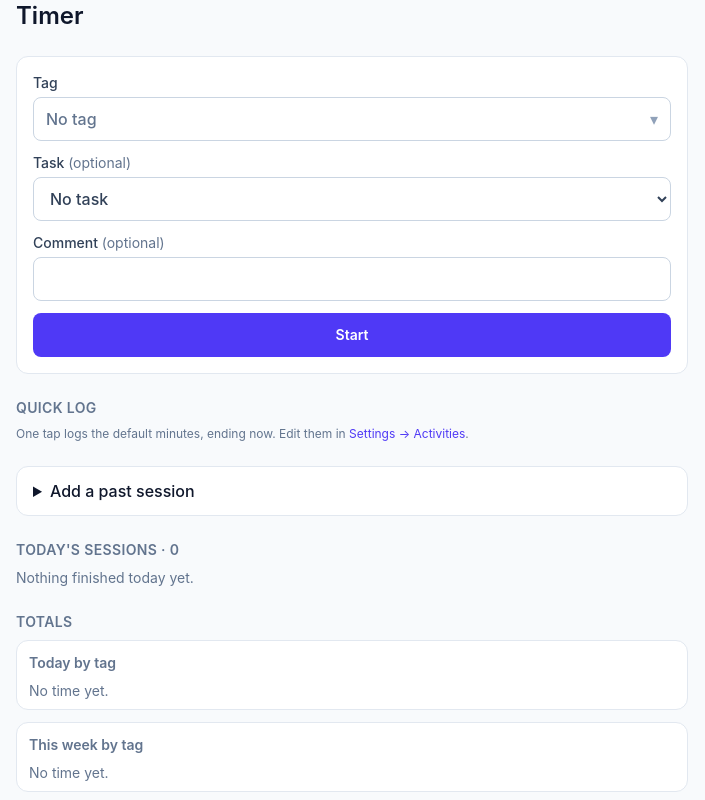
Test: Timer screen, past sessions and today › needs a tag and a duration or an end
Click the heading "Add a past session": [122, 491] box [50,481,195,501]
(page scrolled)
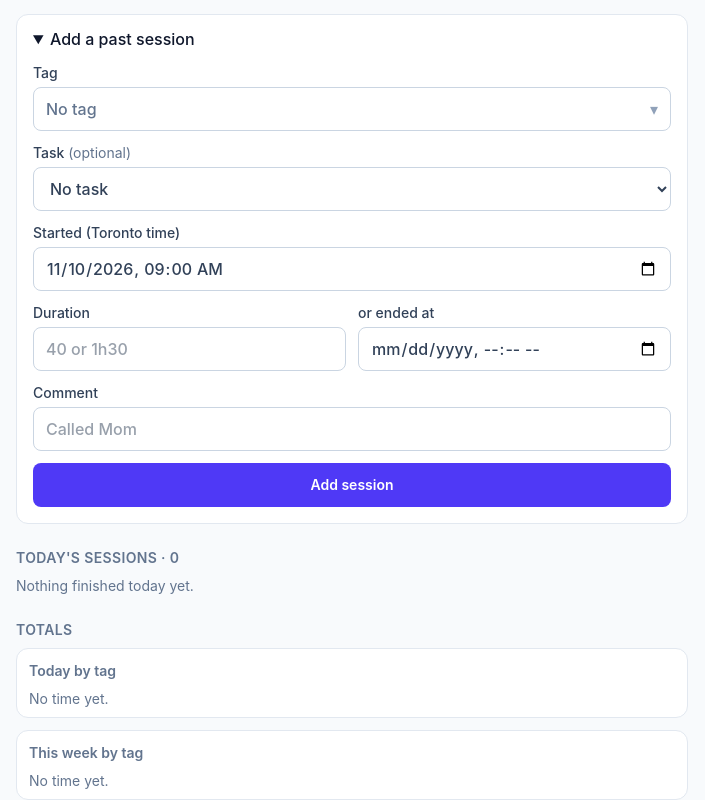
Click the button "Add session": [352, 485] box [33,463,671,507]
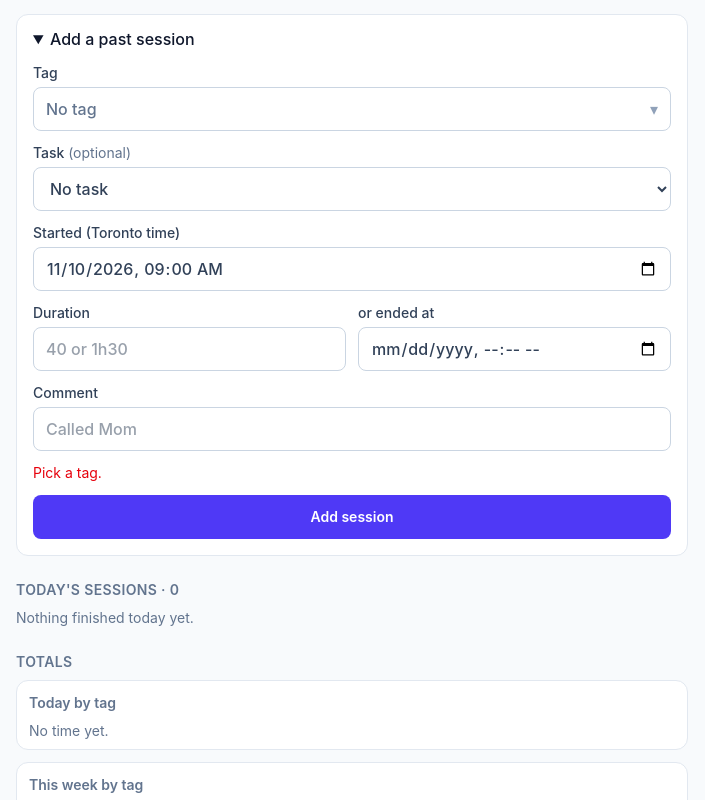
Now the message shows "Pick a tag", box [33,464,102,481]
Click the button with aria-label "Past session tag": [71, 109] box [33,87,671,131]
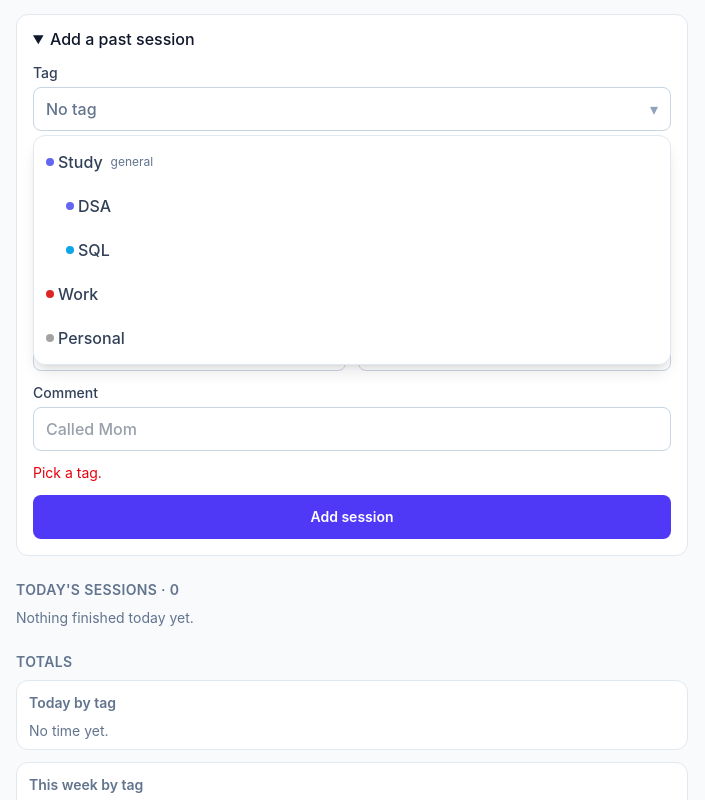
Click the option "Personal": [91, 338] box [34,316,670,360]
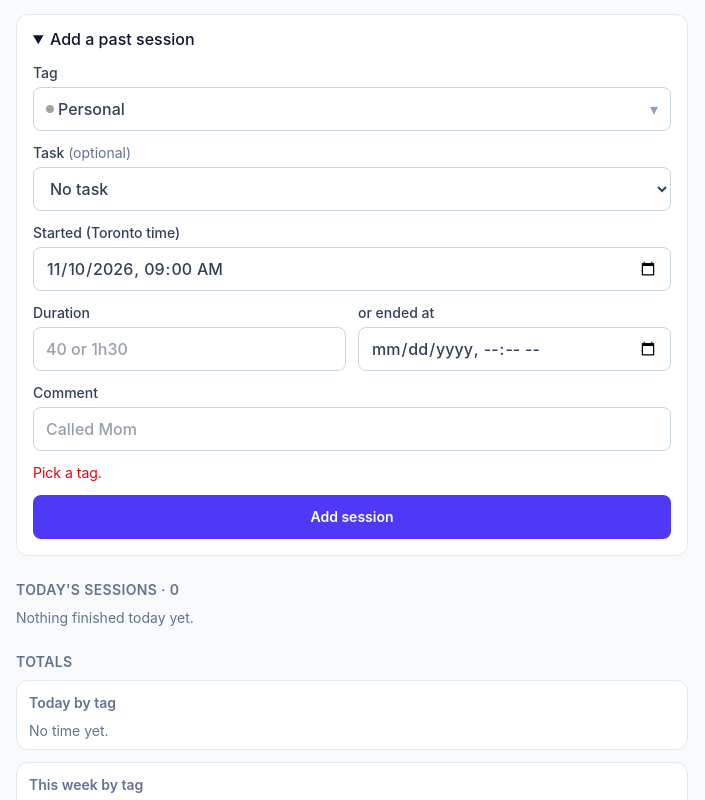
Click the button "Add session": [352, 517] box [33,495,671,539]
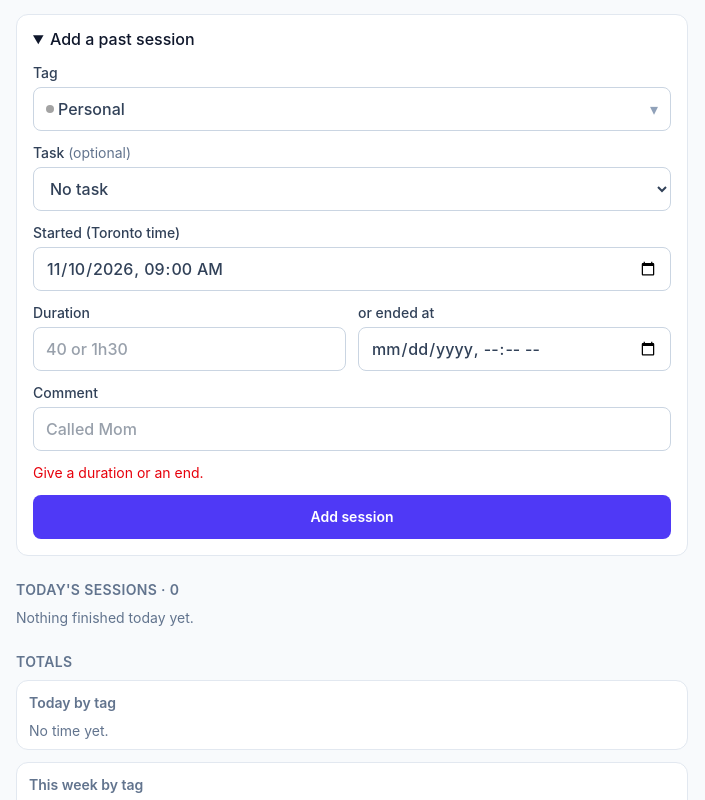
Now the message shows "duration or an end", box [33,464,204,481]
